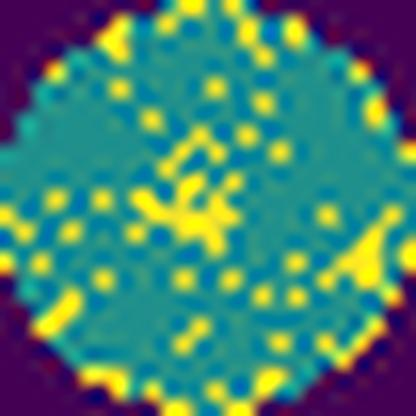Center: (136, 176, 240, 253)
